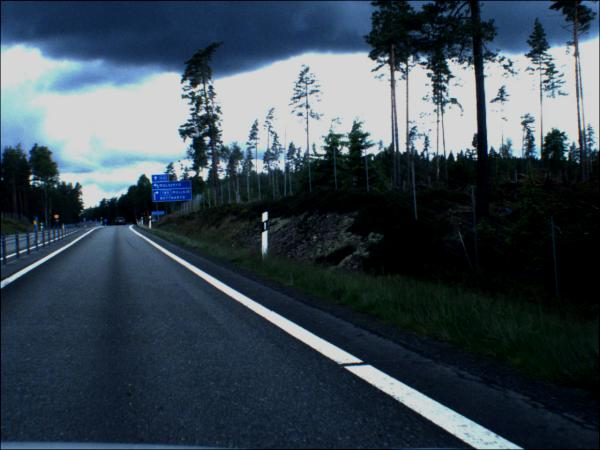70_SIGN: (144, 213, 149, 218), (55, 216, 61, 220)
PASS_RIGHT_SIDE: (105, 220, 109, 224)
